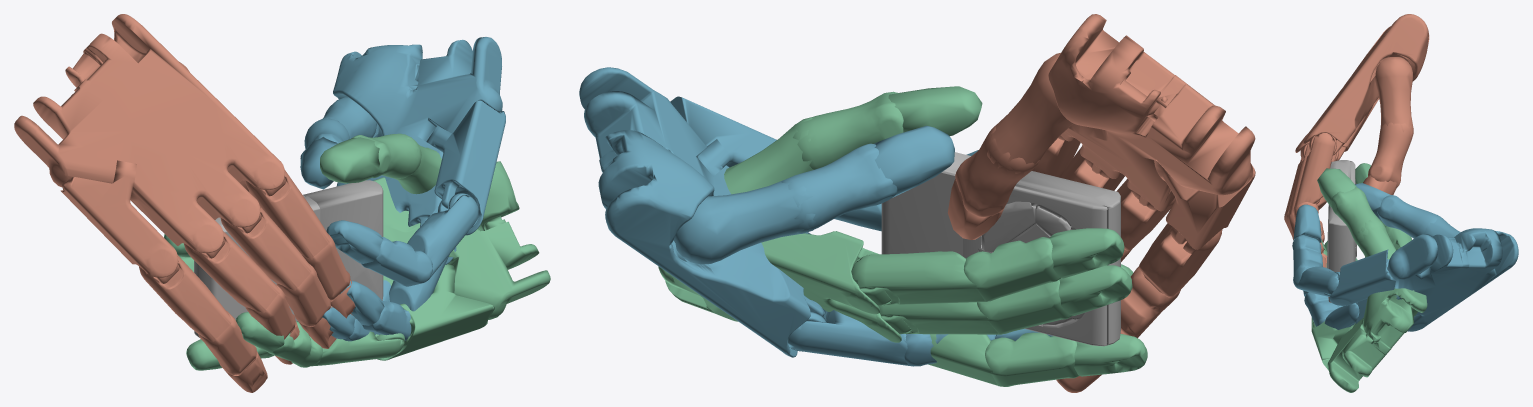
3 renders of one model, left to right at view 1: azimuth 30°, elevation 25°; view 2: azimuth 150°, elevation 25°; view 3: azimuth 270°, elevation 25°, orthographic. The views are drawn at different scales.
Size of the model in its own units: 0.2812 by 0.1882 by 0.1545.
